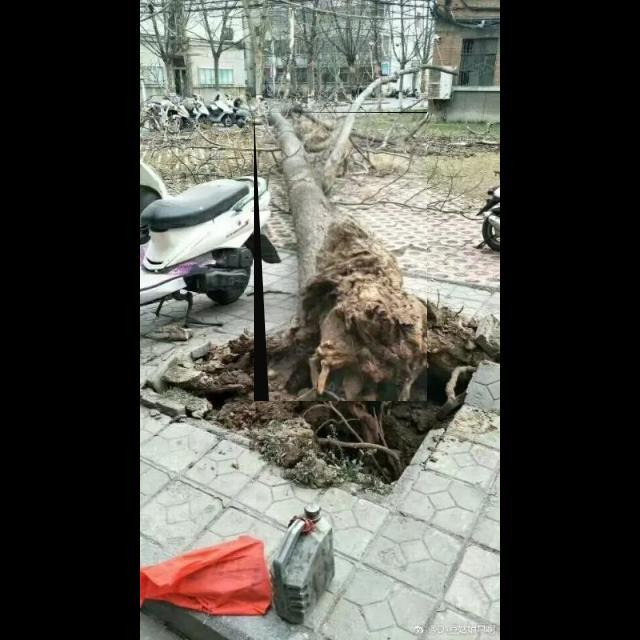fallen_tree: (254, 112, 428, 402)
